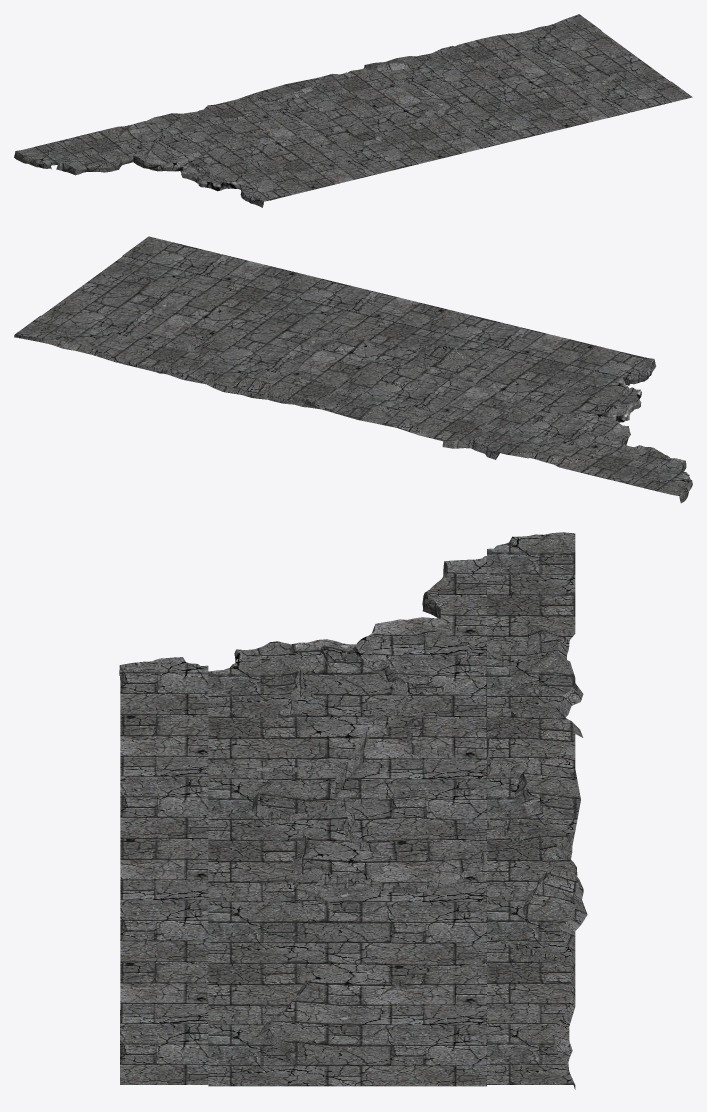
The model's file is BrokenGround.fbx.
3 views of the same model, one above another, from view 1: azimuth 30°, elevation 25°; view 2: azimuth 150°, elevation 25°; view 3: azimuth 270°, elevation 25° (orthographic). The views are drawn at different scales.
Visible parts, largest first — view 1: SMO_BG50_ground_LD16_001_ILCA; view 2: SMO_BG50_ground_LD16_001_ILCA; view 3: SMO_BG50_ground_LD16_001_ILCA.
Part boxes in pixels (x1,y1,x2,y2): SMO_BG50_ground_LD16_001_ILCA: (14, 14, 692, 207); SMO_BG50_ground_LD16_001_ILCA: (14, 236, 692, 503); SMO_BG50_ground_LD16_001_ILCA: (119, 532, 587, 1089).
Bounding box in the file's own units: 10906 × 221 × 3905.
